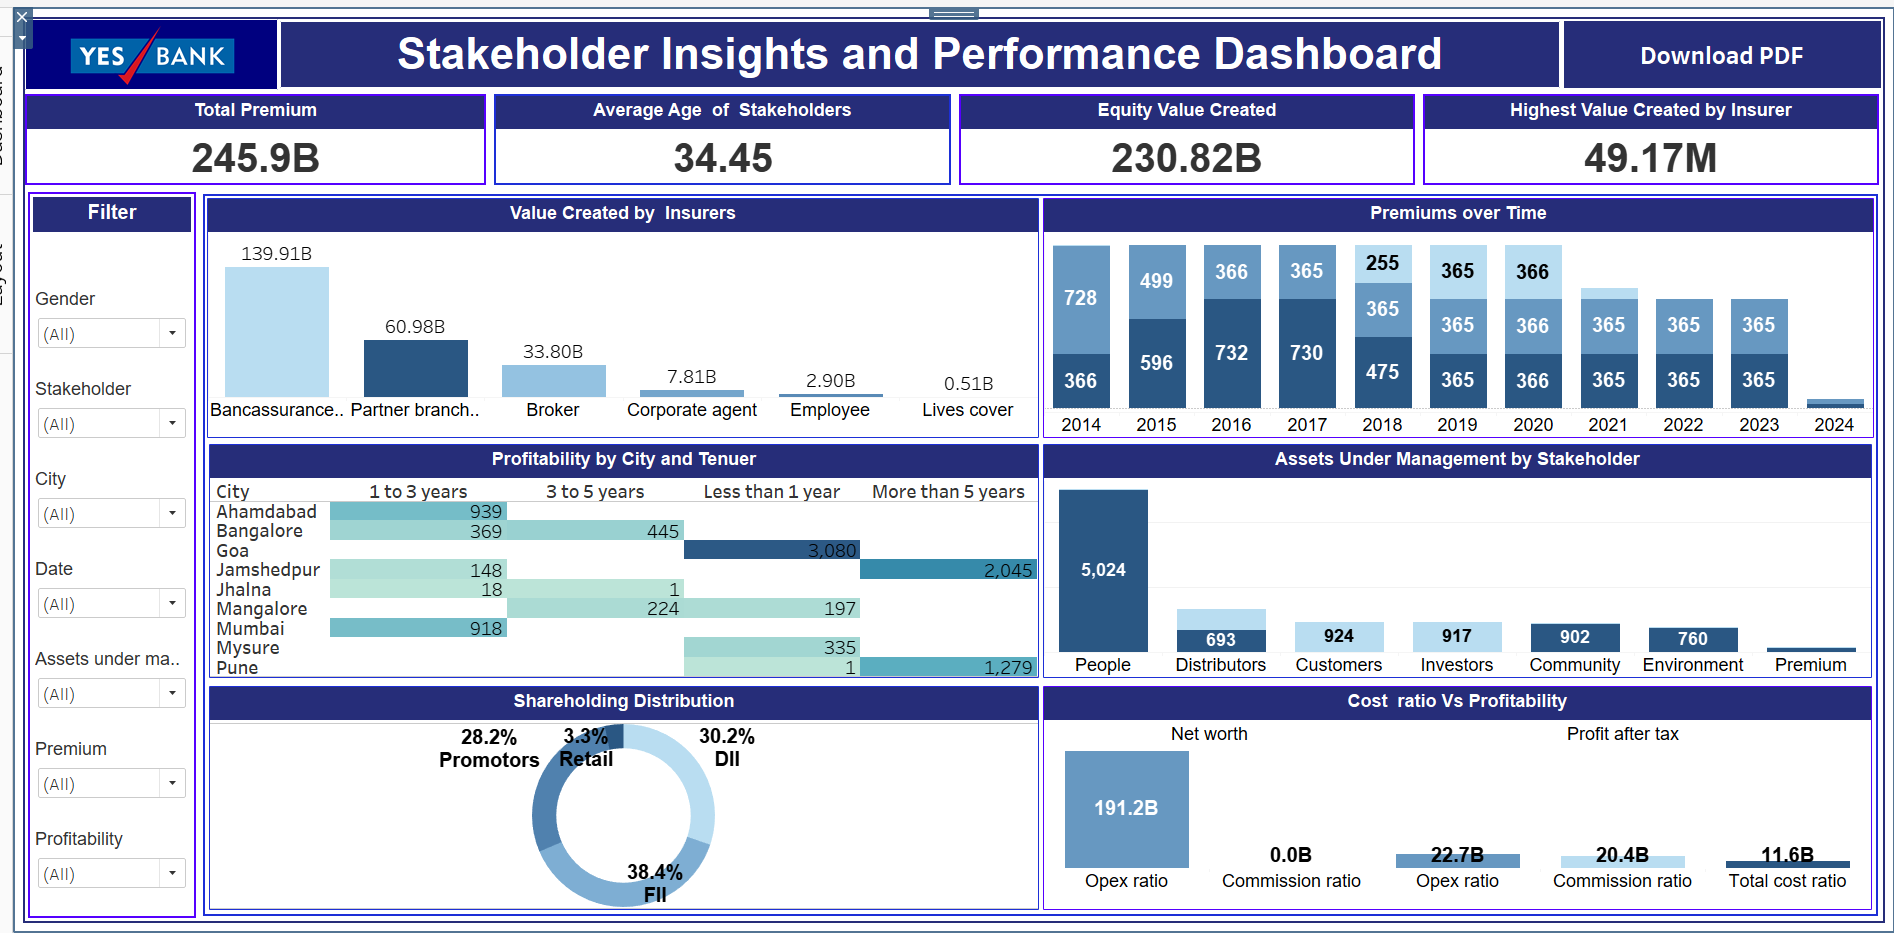

This screenshot's page, from the dashboard's own definition file:
{"tool":"tableau","page":{"name":"Dashboard 1","canvas":[1000,1000],"units":"permille","ordinal":0},"visuals":[{"type":"image","param":"C:/Users/mohit/OneDrive/Desktop/Yes_Bank_logo.png","box":[6.4,13,134.4,76.7]},{"type":"text","box":[140.8,13,682.2,76.7]},{"type":"dashboard-object","box":[823,13,170.6,76.7]},{"type":"worksheet","title":"Total Premium","mark":"Automatic","box":[6.4,89.6,247.1,106.9]},{"type":"worksheet","title":"Average Age  of  Stakeholders","mark":"Automatic","box":[253.5,89.6,247.1,106.9]},{"type":"worksheet","title":"Equity Value Created","mark":"Automatic","box":[500.5,89.6,246.6,106.9]},{"type":"worksheet","title":"Highest Value Created by Insurer","mark":"Automatic","box":[747.1,89.6,246.5,106.9]},{"type":"worksheet","title":"Filter","mark":"Automatic","box":[9.6,203,86.1,97.2]},{"type":"worksheet","title":"Value Created by  Insurers","mark":"Automatic","rows":["Value Created"],"cols":["Insurer"],"box":[102,204.1,444.2,263.5]},{"type":"worksheet","title":"Premiums over Time","mark":"Bar","rows":["Premium 1"],"cols":["Date"],"box":[546.2,204.1,443.7,263.5]},{"type":"filter","title":"Filter","param":"[federated.1j3smob0x2889012q5spw0n5ldfi].[none:Gender:nk]","box":[9.6,300.2,86.1,97.2]},{"type":"filter","title":"Filter","param":"[federated.1j3smob0x2889012q5spw0n5ldfi].[none:Stakeholder:nk]","box":[9.6,397.4,86.1,97.2]},{"type":"worksheet","title":"Profitability by City and Tenuer","mark":"Square","rows":["City"],"cols":["Policy tenuer"],"box":[103.1,469.8,443.2,257]},{"type":"worksheet","title":"Assets Under Management by Stakeholder","mark":"Automatic","rows":["Assets under management"],"cols":["Stakeholder"],"box":[546.2,469.8,442.6,257]},{"type":"filter","title":"Filter","param":"[federated.1j3smob0x2889012q5spw0n5ldfi].[none:City:nk]","box":[9.6,494.6,86.1,97.2]},{"type":"filter","title":"Filter","param":"[federated.1j3smob0x2889012q5spw0n5ldfi].[my:Date:ok]","box":[9.6,591.8,86.1,97.2]},{"type":"filter","title":"Filter","param":"[federated.1j3smob0x2889012q5spw0n5ldfi].[none:Assets under management:nk]","box":[9.6,689,86.1,97.2]},{"type":"worksheet","title":"Sahreholding Distribution","mark":"Pie","rows":["Calculation_277252890331684865","Calculation_277252890331684865"],"box":[103.1,731.1,443.2,246.2]},{"type":"worksheet","title":"Cost  ratio Vs Profitability","mark":"Automatic","rows":["Value Created"],"cols":["Profitability","Cost ratio"],"box":[546.2,731.1,442.6,246.2]},{"type":"filter","title":"Filter","param":"[federated.1j3smob0x2889012q5spw0n5ldfi].[none:Premium 1:nk]","box":[9.6,786.2,86.1,97.2]},{"type":"filter","title":"Filter","param":"[federated.1j3smob0x2889012q5spw0n5ldfi].[none:Profitability:nk]","box":[9.6,883.4,86.1,97.2]}]}

Visuals, with their boxes on the dashboard's canvas, which has no fixed pixel size, in thousandths of its width and height (x1, y1, x2, y2). These are canvas units, not pixel positions in the 1894x933 screenshot, which may show the page scaled, cropped or inside an application window:
image: (6,13,141,90)
text: (141,13,823,90)
dashboard-object: (823,13,994,90)
"Total Premium" worksheet: (6,90,254,196)
"Average Age  of  Stakeholders" worksheet: (254,90,501,196)
"Equity Value Created" worksheet: (500,90,747,196)
"Highest Value Created by Insurer" worksheet: (747,90,994,196)
"Filter" worksheet: (10,203,96,300)
"Value Created by  Insurers" worksheet: (102,204,546,468)
"Premiums over Time" worksheet (Bar marks): (546,204,990,468)
"Filter" filter: (10,300,96,397)
"Filter" filter: (10,397,96,495)
"Profitability by City and Tenuer" worksheet (Square marks): (103,470,546,727)
"Assets Under Management by Stakeholder" worksheet: (546,470,989,727)
"Filter" filter: (10,495,96,592)
"Filter" filter: (10,592,96,689)
"Filter" filter: (10,689,96,786)
"Sahreholding Distribution" worksheet (Pie marks): (103,731,546,977)
"Cost  ratio Vs Profitability" worksheet: (546,731,989,977)
"Filter" filter: (10,786,96,883)
"Filter" filter: (10,883,96,981)
